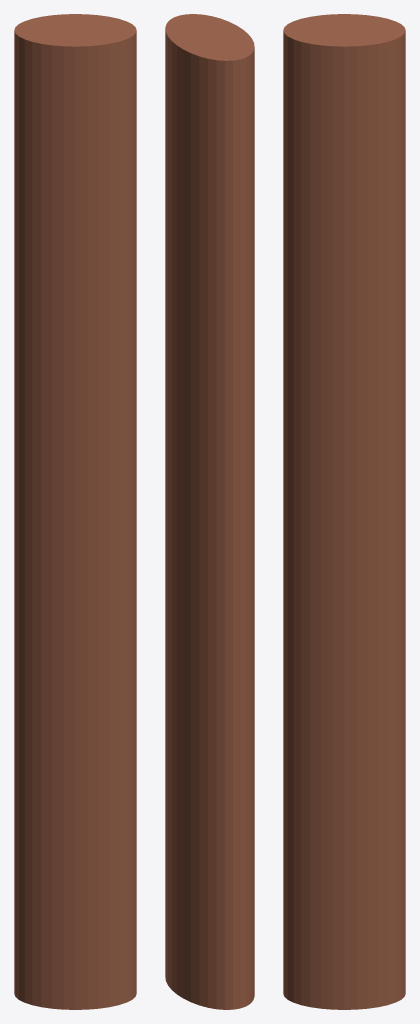
3 renders of one model, left to right at view 1: azimuth 90°, elevation 25°; view 2: azimuth 210°, elevation 25°; view 3: azimuth 270°, elevation 25°, orthographic.
Parts seen in each view (by area): view 1: Cylinder.003; view 2: Cylinder.003; view 3: Cylinder.003.
Boxes of the visible parts, <box> form: Cylinder.003: <box>14,14,136,1009</box>; Cylinder.003: <box>165,14,254,1009</box>; Cylinder.003: <box>283,14,405,1009</box>.
Size of the model in its own units: 0.0176 by 0.2424 by 0.0279.
